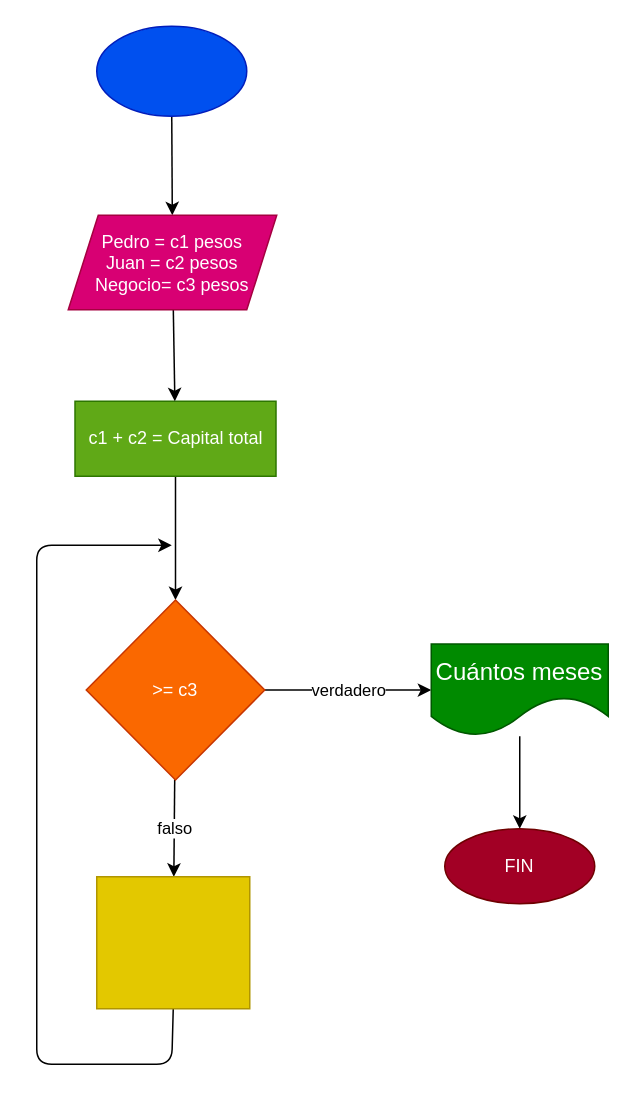
Some shapes in this 635 by 1103 pixel diagram are drawn without their labels. Each missing label, with the centre of its shape:
"c1 = c1 + 0.03*c1 c2 = c2 + 0.04*c2 m = m + 1" belongs at point (172, 942).
"INICIO" belongs at point (171, 70).
